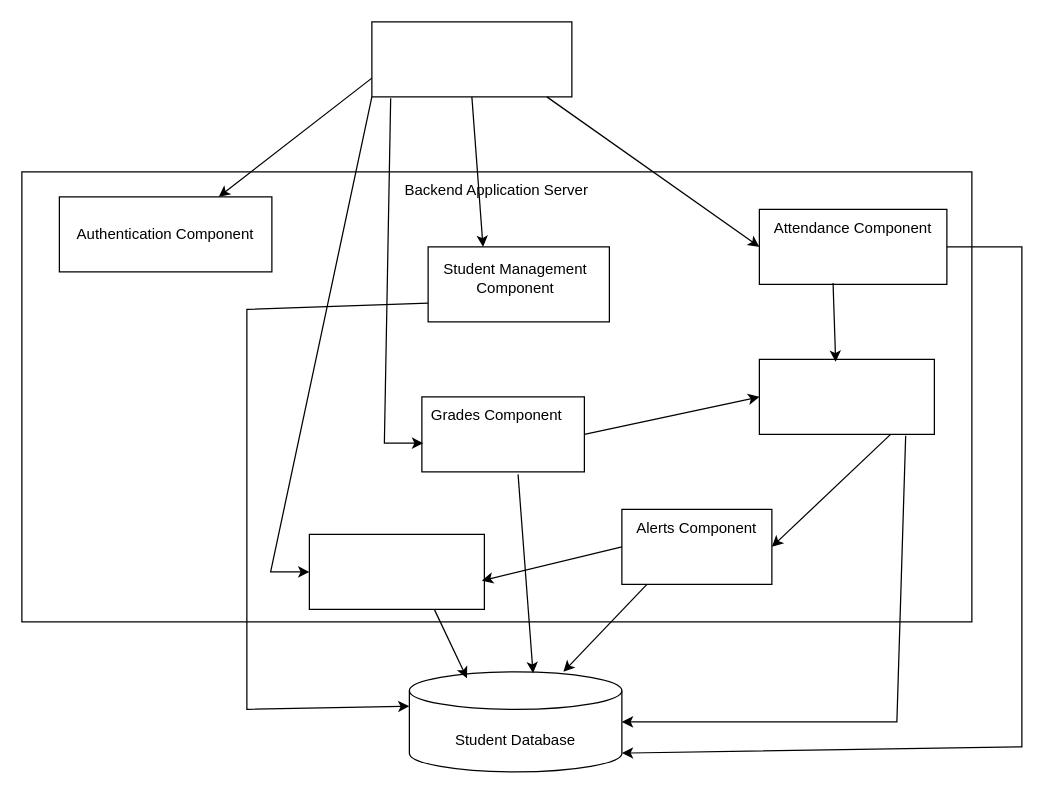
The diagram is 1054 pixels wide and 794 high, and some of its shapes have lost their labels. Here are the shapes that lost their labels. From the top down, the centre of each, then its label:
At (471,59): "Web Application (Frontend)".
At (846,396): "Risk Analysis Component".
At (396,571): "Dashboard Component".
